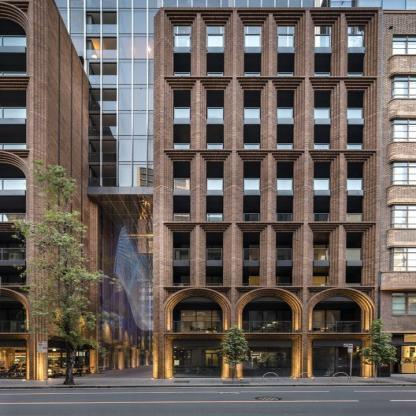Balcony: (174, 34, 365, 47), (173, 321, 362, 333), (173, 248, 362, 260), (174, 72, 365, 83), (174, 108, 365, 119), (174, 143, 365, 154), (174, 179, 365, 190), (174, 214, 363, 225), (173, 283, 362, 292)
Building Outline: (153, 7, 382, 379)
Facade: (153, 7, 384, 379)
Floor Slab: (154, 47, 381, 53), (154, 83, 381, 89), (154, 118, 381, 124), (154, 154, 380, 160), (154, 189, 380, 195), (154, 260, 380, 266), (154, 333, 379, 338), (154, 225, 379, 230), (154, 292, 378, 297), (182, 310, 218, 333), (309, 310, 340, 333), (249, 310, 279, 333), (181, 276, 219, 292), (309, 276, 340, 292), (249, 276, 279, 292), (309, 246, 339, 261), (249, 246, 279, 261)
Glass Wall: (174, 347, 222, 378), (243, 347, 291, 378), (314, 347, 362, 377)
Window: (313, 338, 362, 377), (173, 340, 222, 378), (242, 339, 291, 377), (313, 296, 363, 333), (173, 296, 223, 333), (242, 296, 292, 333), (347, 90, 365, 154), (174, 90, 192, 154), (207, 90, 225, 154), (244, 90, 262, 154), (278, 90, 296, 154), (315, 90, 333, 154), (347, 161, 365, 225), (174, 161, 192, 225), (207, 161, 225, 225), (244, 161, 262, 225), (277, 161, 295, 225), (314, 161, 332, 225), (206, 232, 224, 292), (172, 232, 190, 292), (346, 232, 363, 292), (243, 232, 260, 292), (276, 232, 293, 292), (313, 232, 330, 292), (347, 27, 365, 83), (174, 27, 192, 83), (207, 27, 225, 83), (244, 27, 262, 83), (278, 27, 296, 83), (315, 27, 333, 83)
